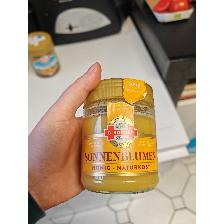Honig: (80, 77, 160, 195)
